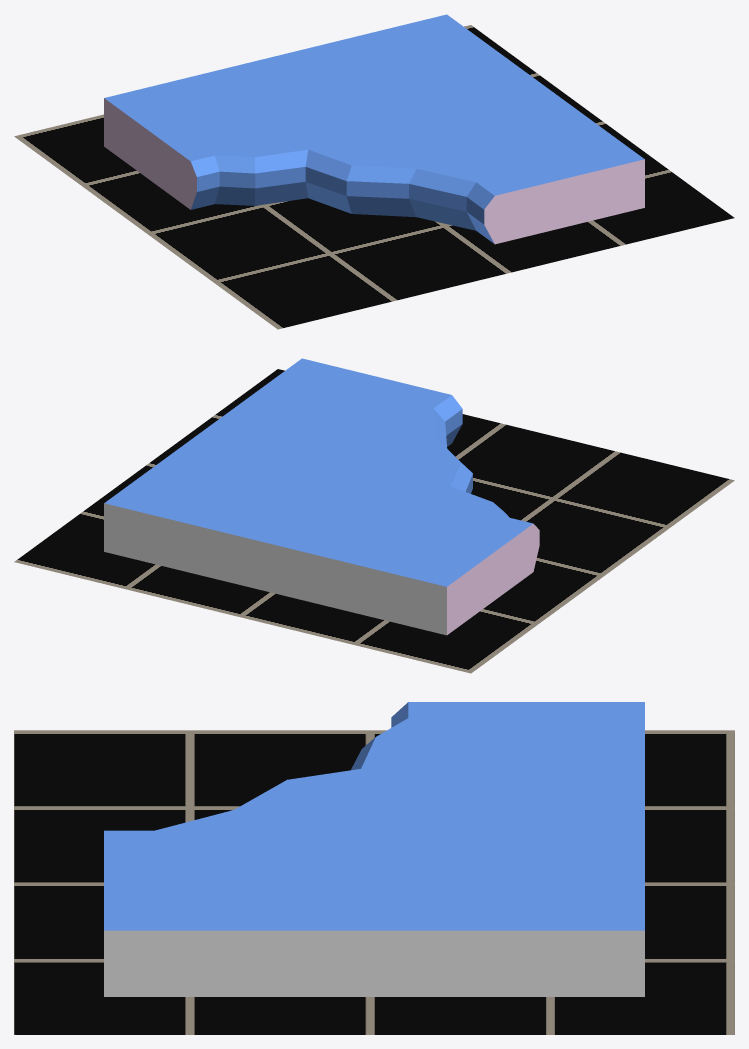
File: Iceberg_Curve_Inner_3x3_1.glb
3 renders of one model, top to bottom at view 1: azimuth 30°, elevation 25°; view 2: azimuth 150°, elevation 25°; view 3: azimuth 270°, elevation 25°, orthographic. The views are drawn at different scales.
Visible parts, largest first — view 1: Iceberg_Curve_Inner_3x3_1, Floor; view 2: Iceberg_Curve_Inner_3x3_1, Floor; view 3: Iceberg_Curve_Inner_3x3_1, Floor.
Part boxes in pixels (box(x1,y1,x2,y2)): Iceberg_Curve_Inner_3x3_1: box(104, 14, 644, 244); Floor: box(14, 25, 734, 329); Iceberg_Curve_Inner_3x3_1: box(104, 358, 539, 635); Floor: box(14, 369, 734, 673); Iceberg_Curve_Inner_3x3_1: box(104, 702, 644, 996); Floor: box(14, 730, 734, 1034).
Bounding box in the file's own units: 400 × 40.63 × 400.
Materials: 4 (1 with a texture image).
